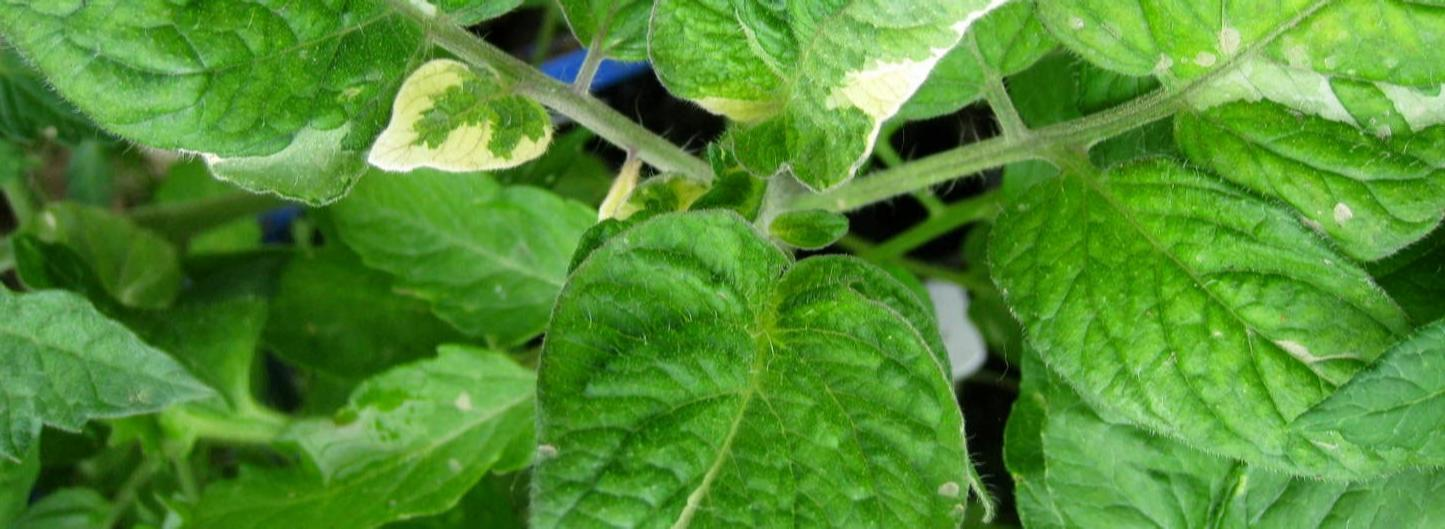Tomato leaf: (517, 198, 978, 529), (997, 179, 1402, 470), (0, 249, 223, 460)
